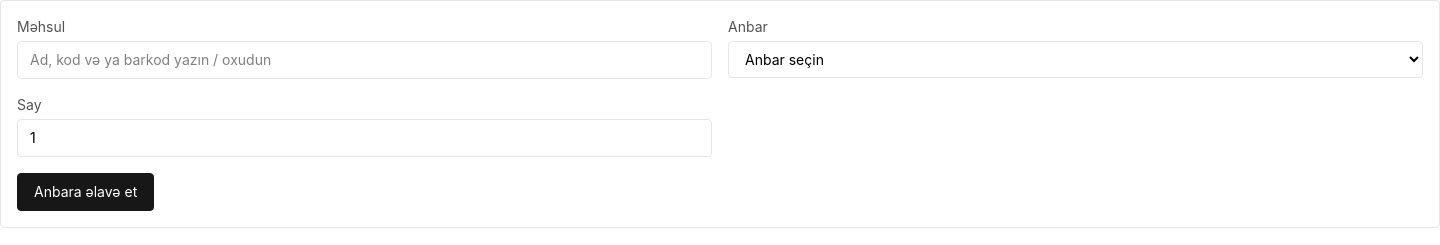
Test: ReceiveStockForm product picker › selects a scanned barcode on Enter and moves focus to the quantity
Type "KHZ-DFCT-BLK-S" into the dropdown labelled "Məhsul" at (364, 60), box [17,41,712,79]
Then press Enter
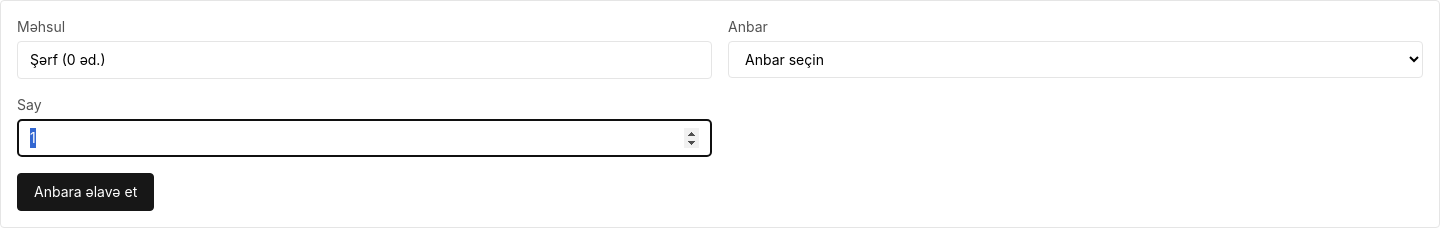
Check: the dropdown labelled "Məhsul" holds "Şərf (0 əd.)", box [17,41,712,79]
